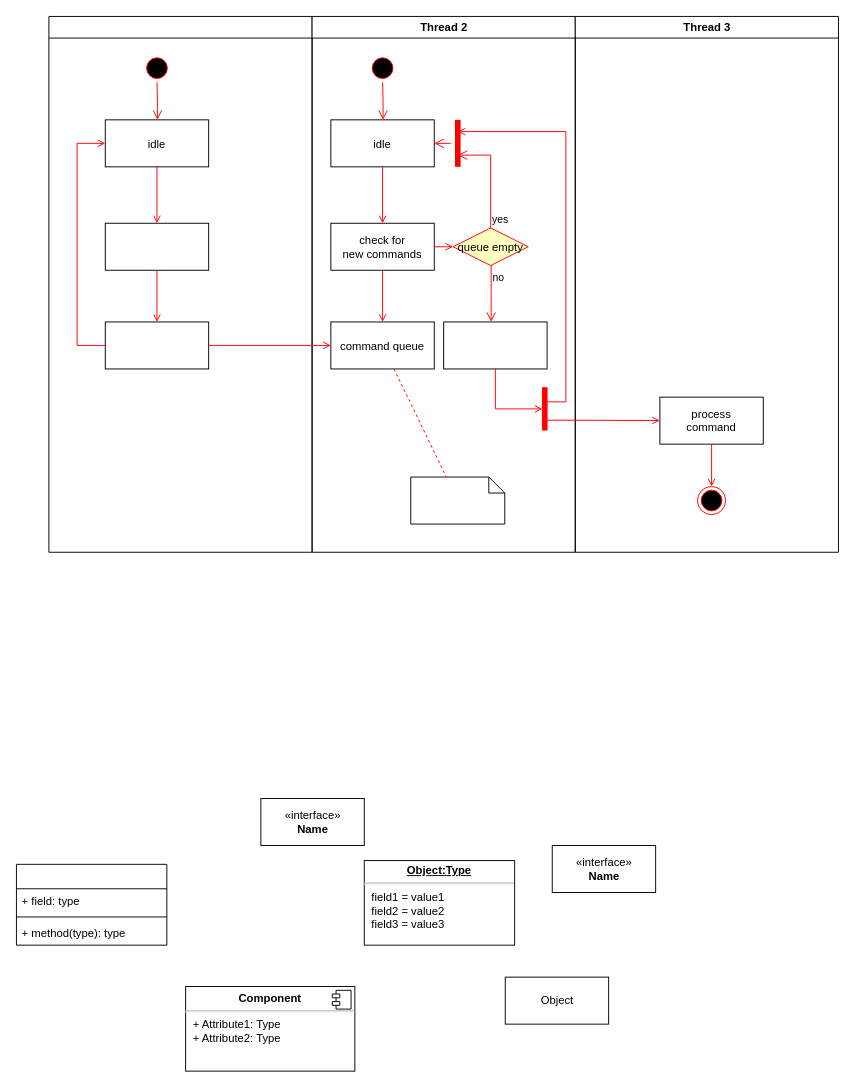
This 855x1088 diagram has some shape labels left out. The box of each missing label's shape, as (x1, y1, x2, y2) in pixels:
Classname: (16, 863, 167, 945)
critical section: (410, 476, 505, 524)
dispatch command worker thread: (443, 321, 547, 369)
post command: (104, 321, 209, 369)
Thread 1: (48, 16, 312, 552)
user action: (104, 222, 209, 270)
